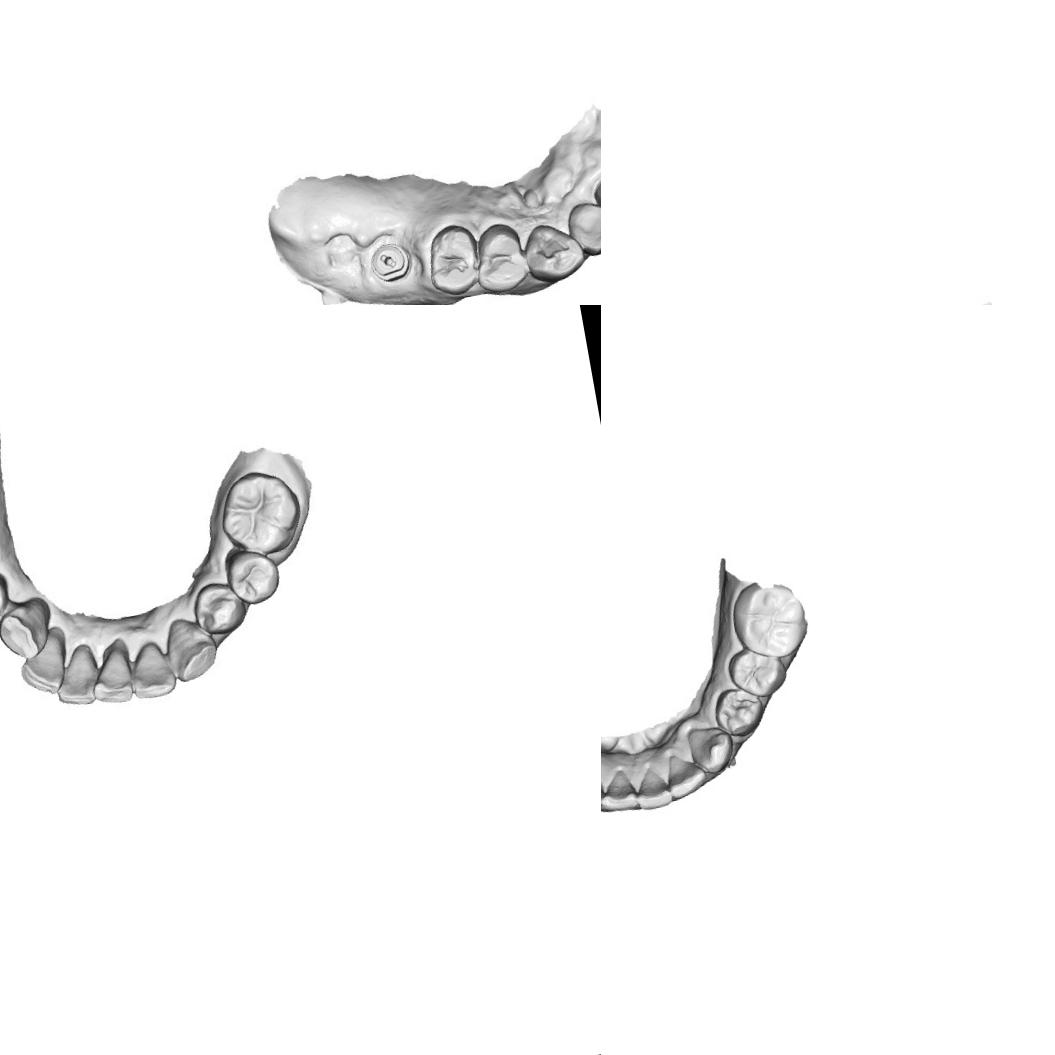canine: (525, 218, 591, 284), (160, 612, 220, 684), (0, 593, 58, 664), (684, 721, 736, 776)
implant_minus: (367, 237, 411, 284)
incisor: (14, 632, 73, 699), (84, 641, 138, 710), (48, 646, 106, 710), (124, 638, 182, 701), (664, 748, 710, 800), (631, 763, 673, 812), (567, 196, 601, 255), (601, 766, 638, 814)
molar: (210, 463, 308, 563), (725, 573, 813, 665)
premolar: (418, 220, 484, 298), (468, 220, 532, 298), (218, 544, 284, 609), (724, 641, 790, 703), (190, 576, 250, 638), (710, 683, 767, 740), (0, 571, 16, 631)
